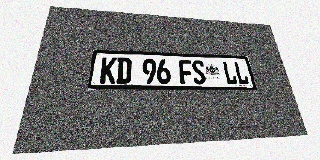6: (156, 59, 171, 84)
9: (142, 58, 157, 84)
D: (116, 57, 131, 84)
F: (178, 60, 194, 84)
K: (100, 57, 117, 84)
L: (233, 62, 250, 85), (222, 61, 238, 84)
S: (191, 60, 207, 84)
